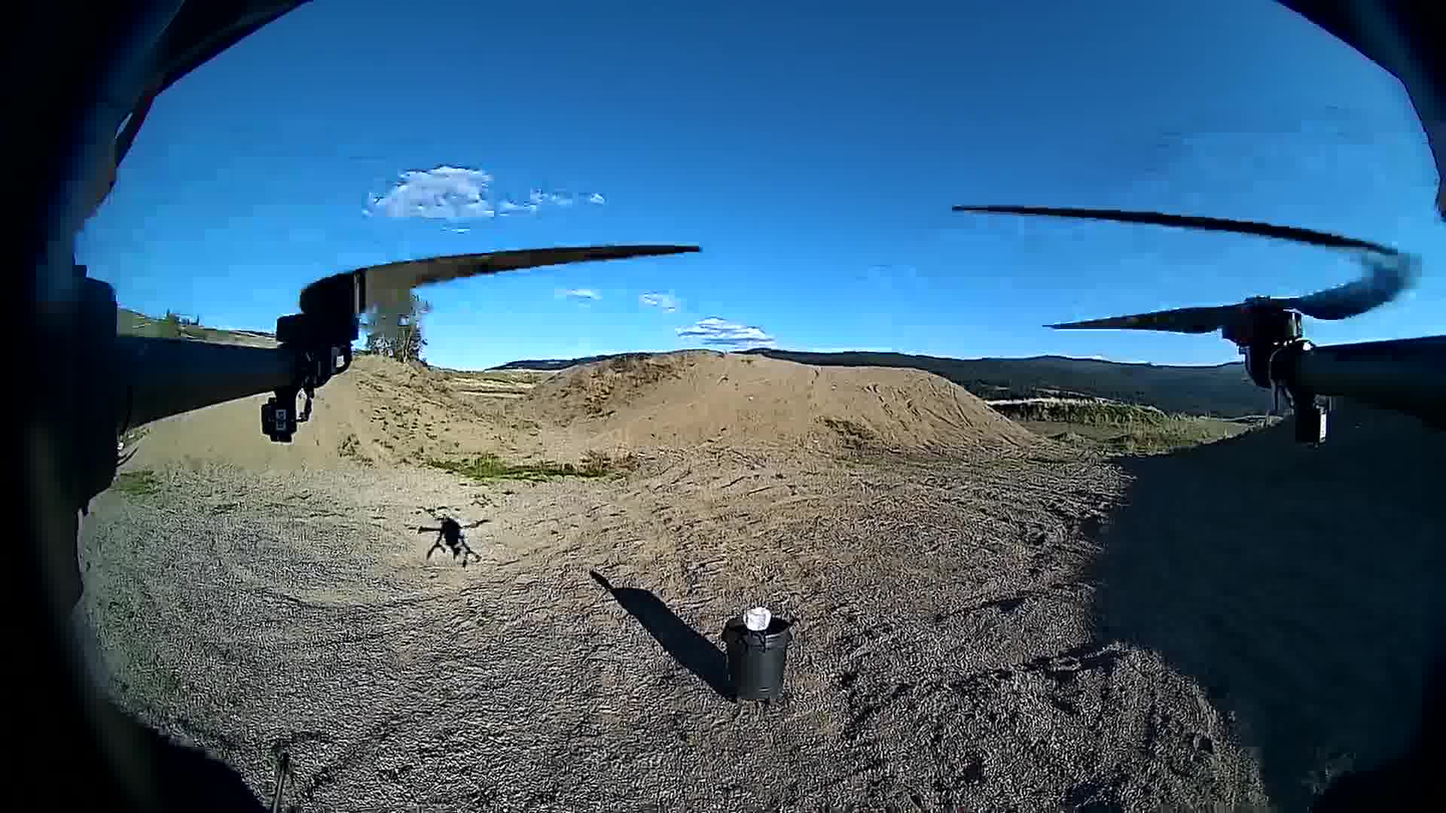Target: (742, 605, 772, 633)
